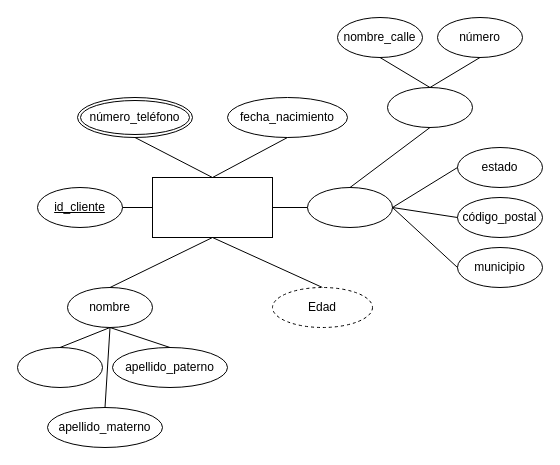
The diagram is 560 pixels wide and 465 high, and some of its shapes have lost their labels. Each missing label, with the centre of its shape:
"calle" belongs at point 429,107.
"Cliente" belongs at point 212,207.
"dirección" belongs at point 349,207.
"nombre_pila" belongs at point 59,367.
